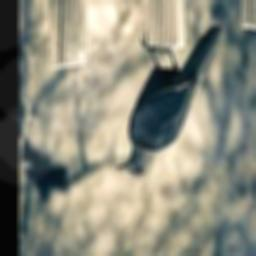Crow: (117, 25, 224, 181)
